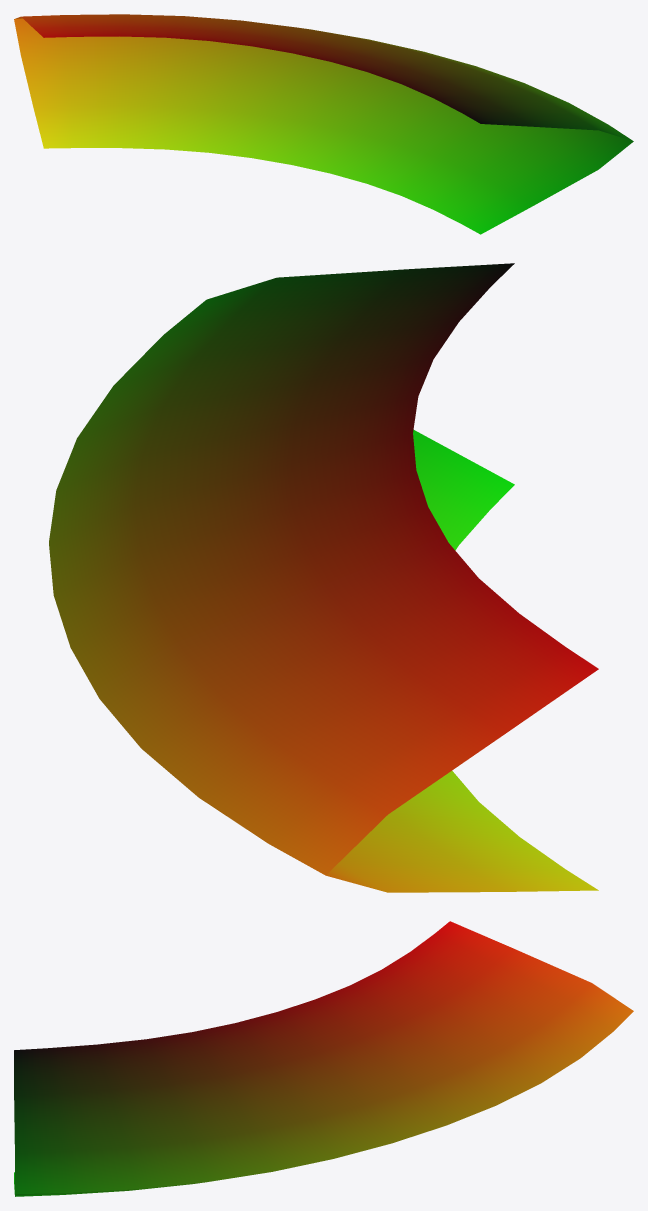
File: SwingMesh.fbx
3 renders of one model, top to bottom at view 1: azimuth 30°, elevation 25°; view 2: azimuth 150°, elevation 25°; view 3: azimuth 270°, elevation 25°, orthographic. The views are drawn at different scales.
Parts seen in each view (by area): view 1: geo1; view 2: geo1; view 3: geo1.
Boxes of the visible parts, left/top/right/bottom form: geo1: left=14, top=14, right=633, bottom=234; geo1: left=49, top=263, right=598, bottom=892; geo1: left=14, top=921, right=633, bottom=1196.
Bounding box in the file's own units: 0.7188 × 0.1953 × 0.8886.
